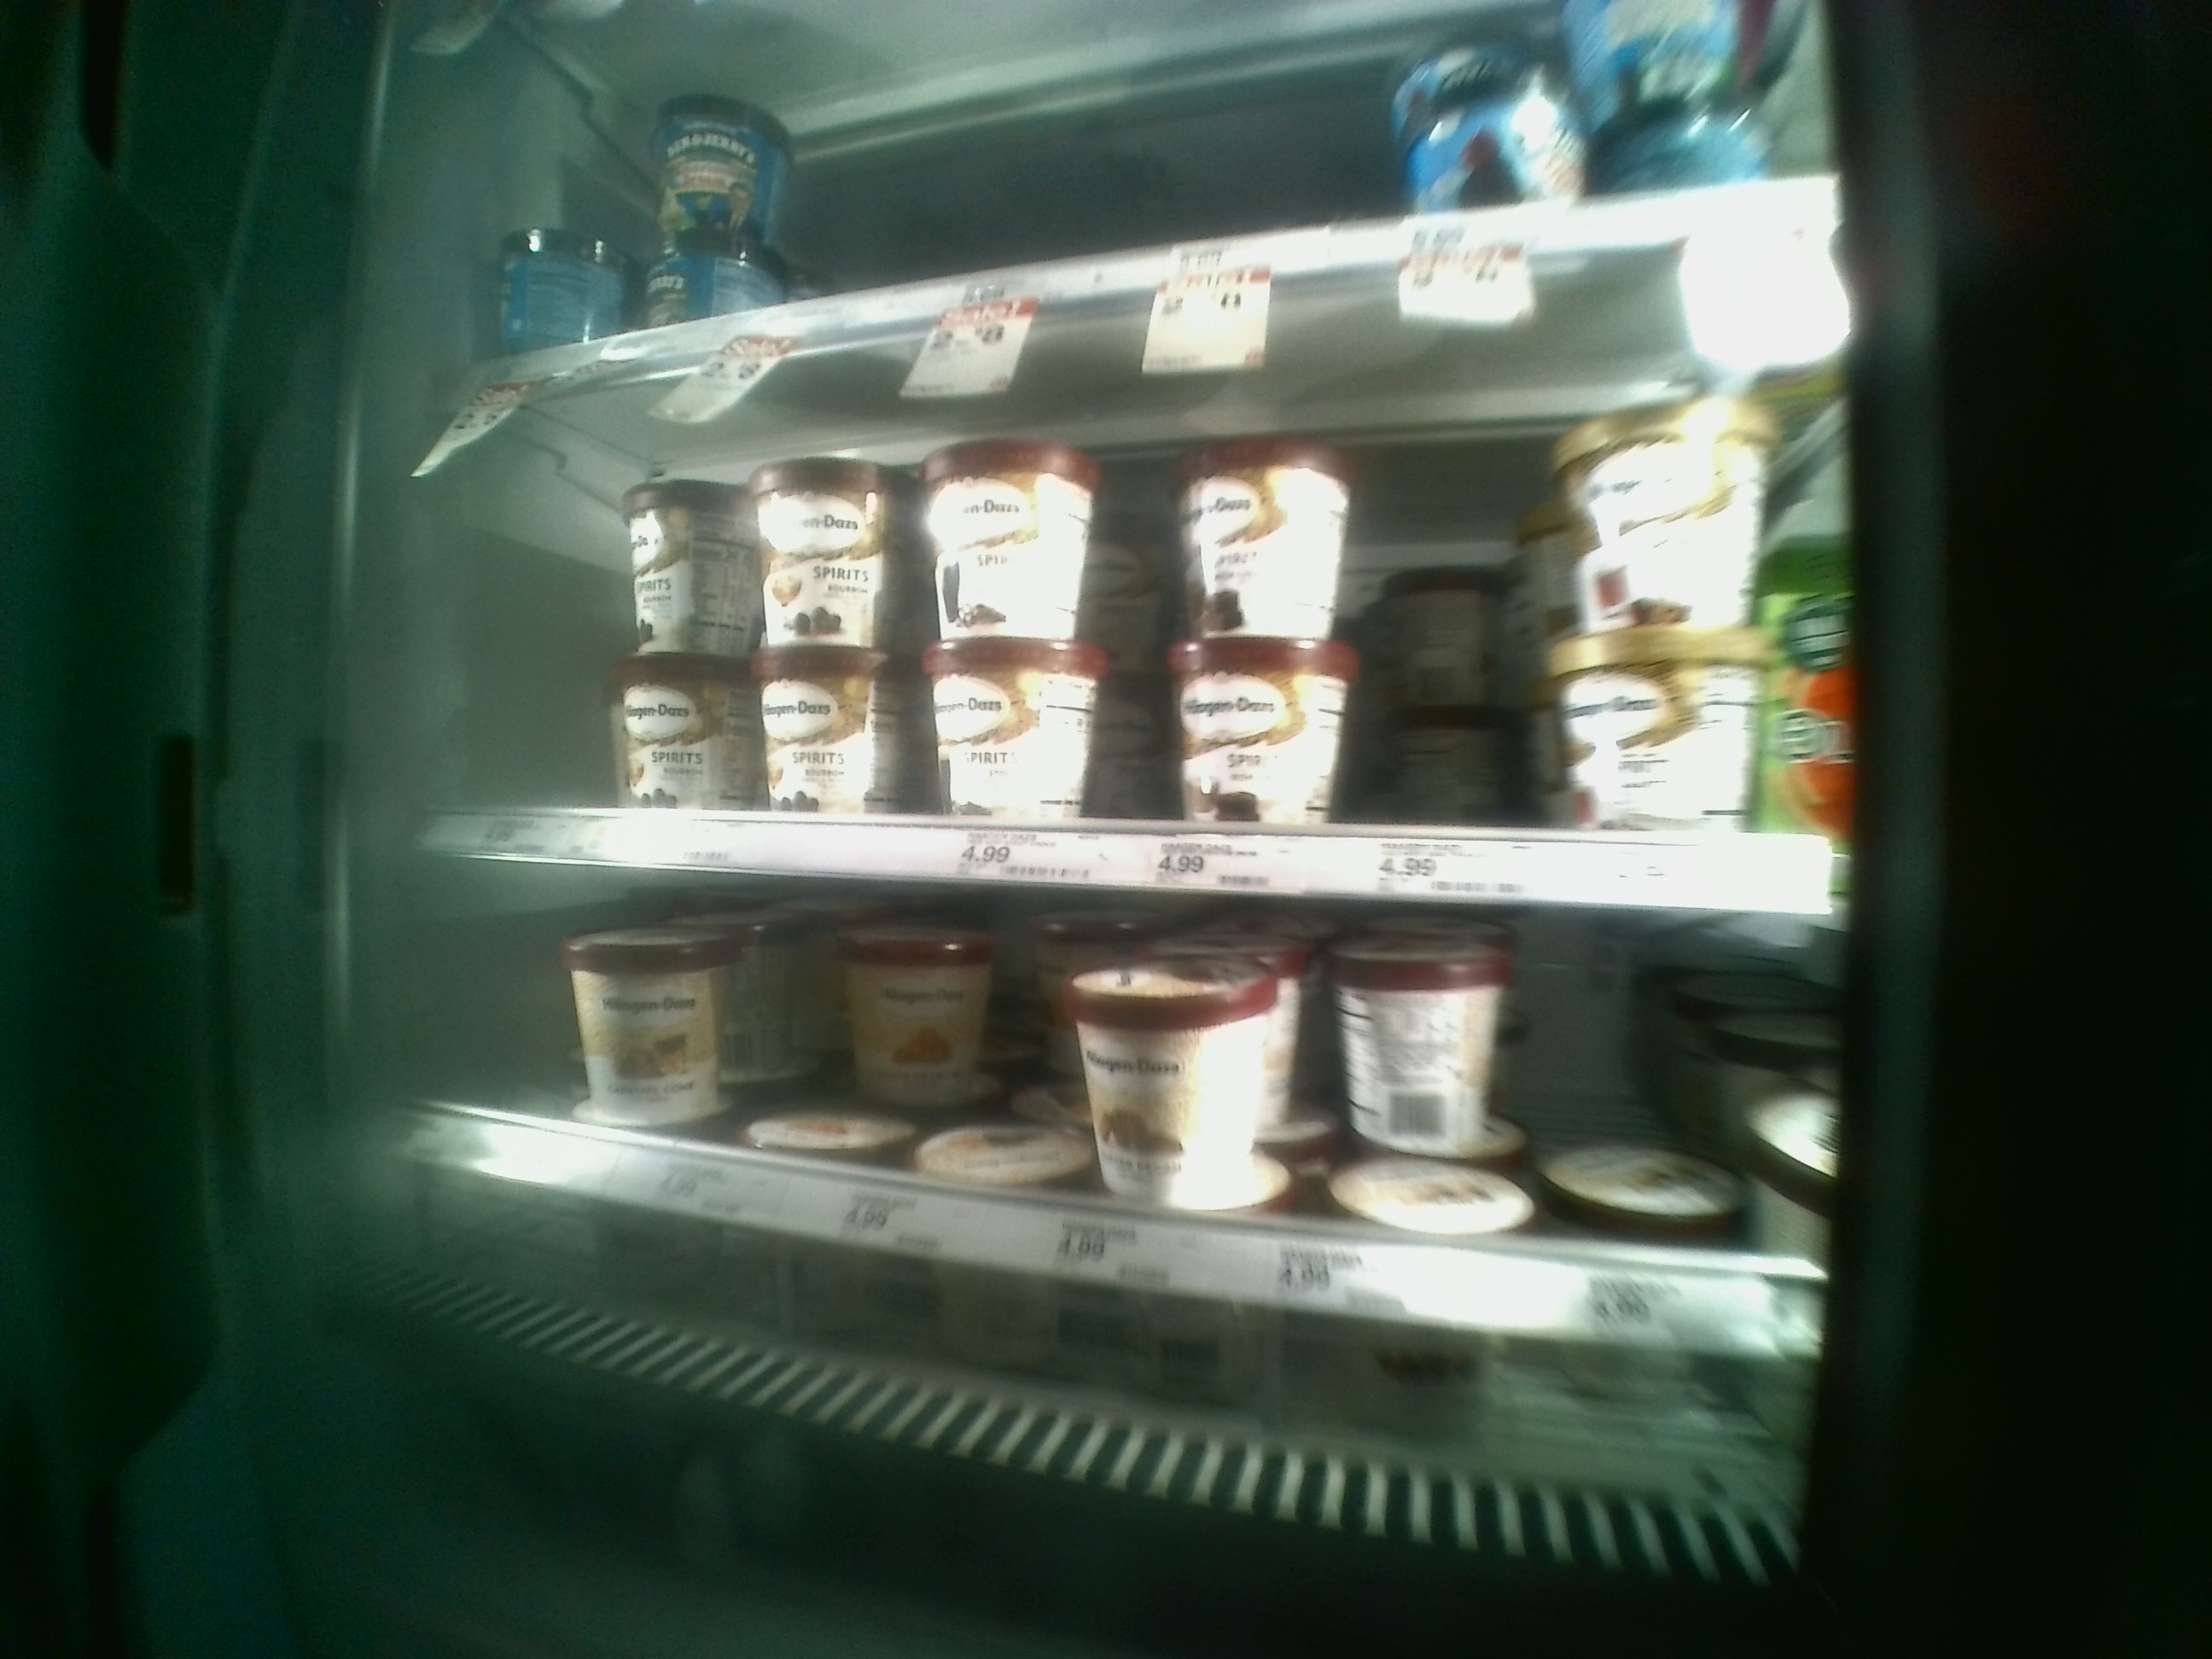shelf: (446, 234, 1846, 917), (441, 868, 1832, 1457)
